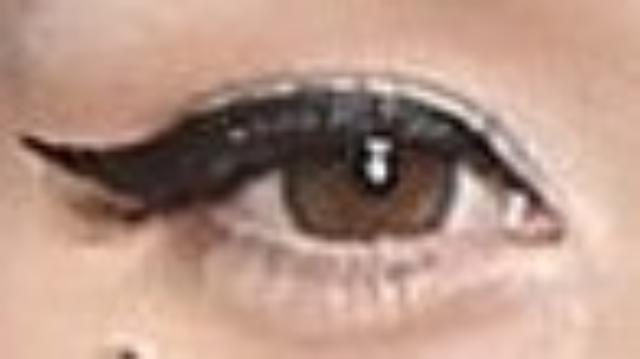eye: (277, 112, 463, 248)
